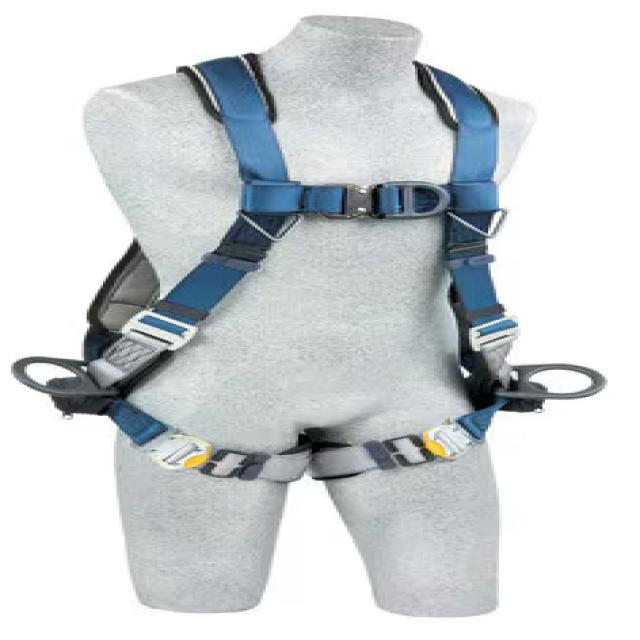Belt: (87, 49, 543, 482)
